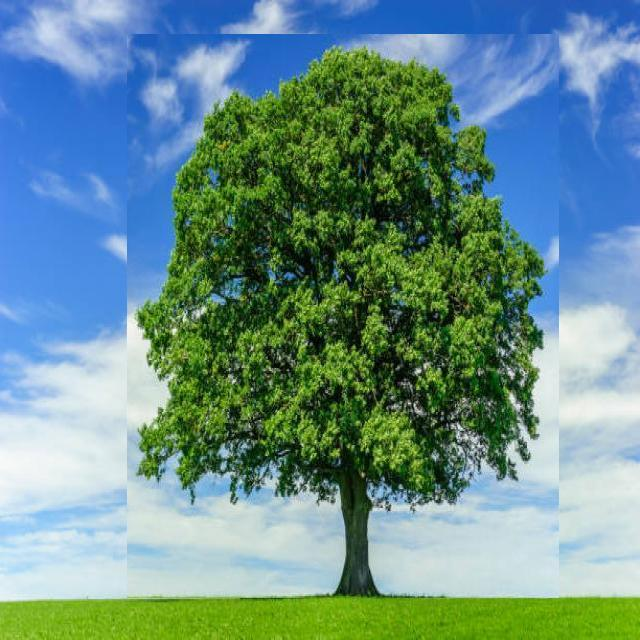tree: (127, 34, 559, 598)
